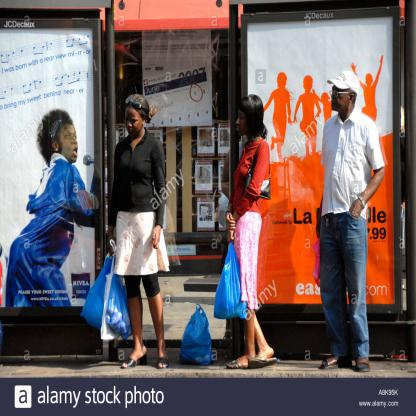Not_Wearing_Mask: (330, 84, 348, 113), (124, 107, 139, 136), (235, 110, 249, 138)
